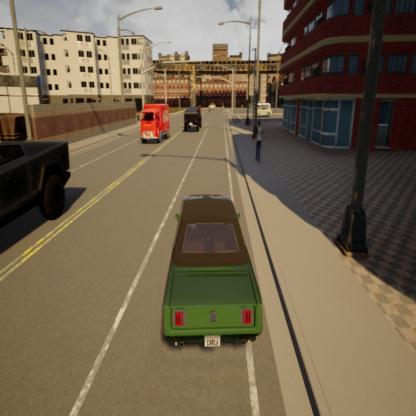Cars: (145, 188, 267, 358), (0, 132, 76, 251), (138, 101, 170, 145), (182, 105, 203, 131), (254, 101, 273, 118), (208, 101, 216, 112)
Pedestrian: (249, 116, 266, 170)
